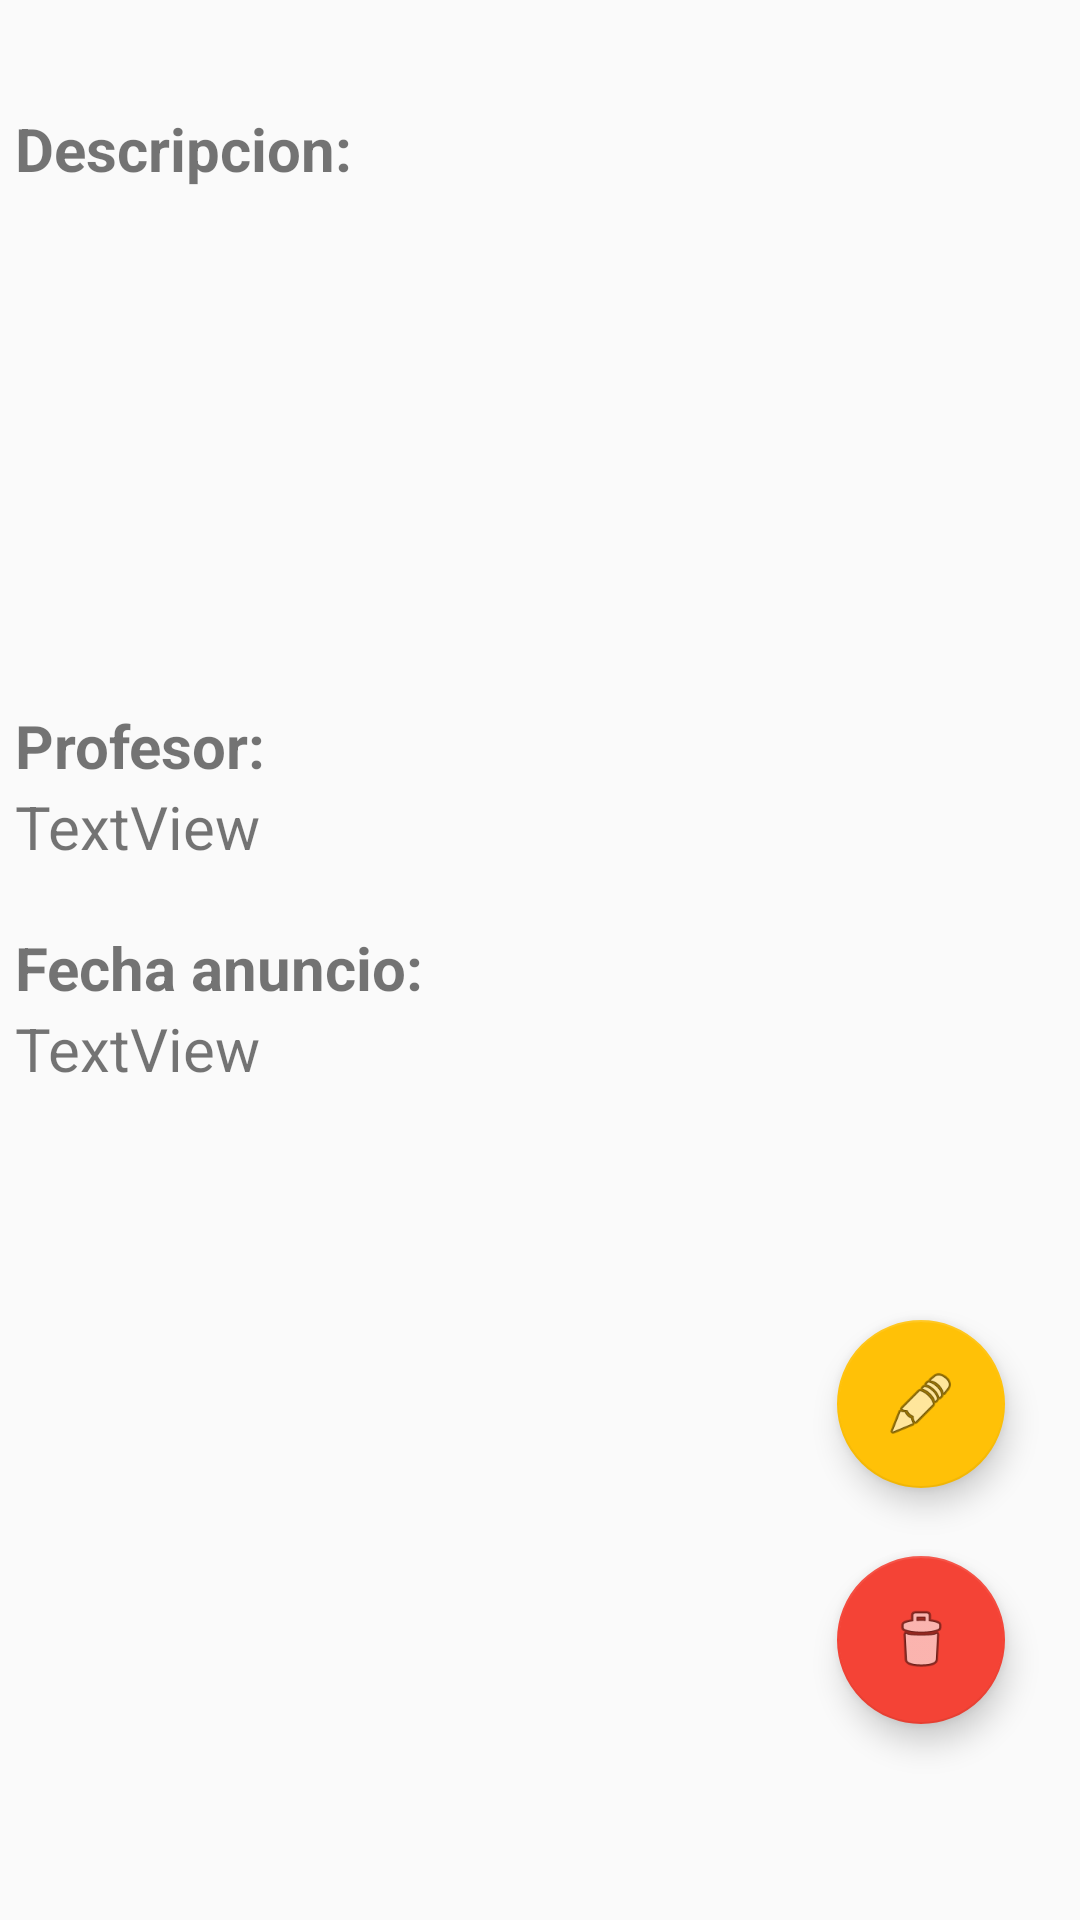

Icon click points for this 1080x1920 phone screenshot, format (x=x, y=y):
delete: (x=921, y=1640)
edit: (x=921, y=1404)
